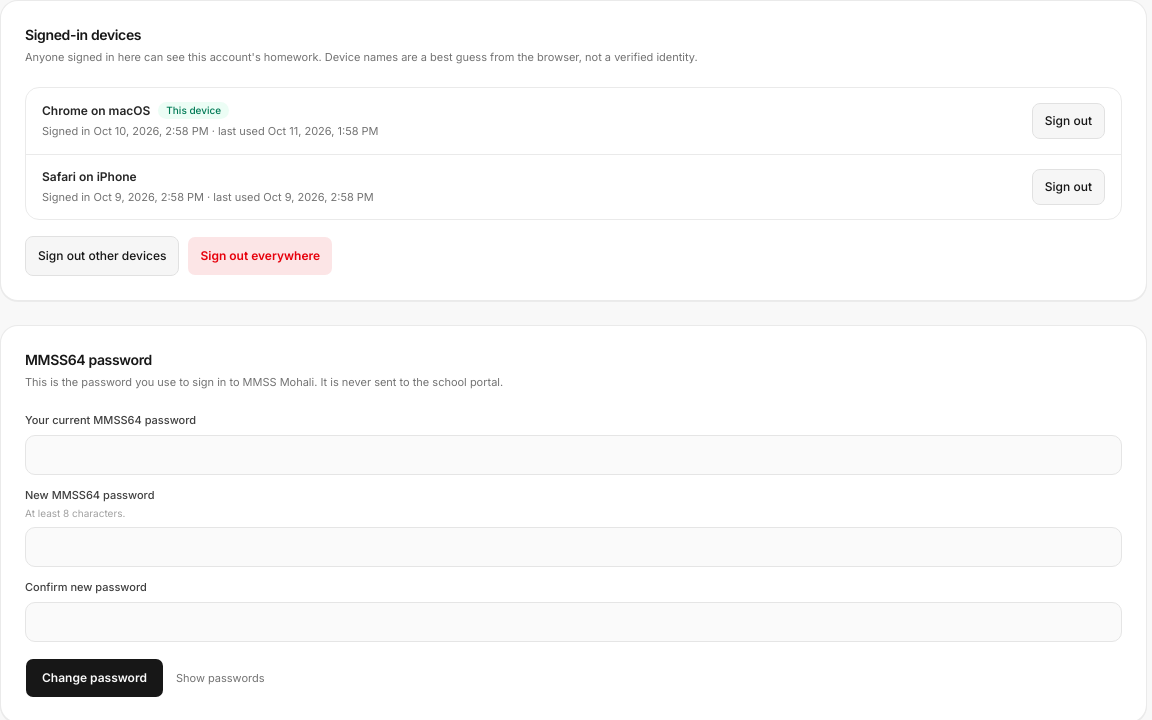
Test case: AccountSecurityPanel › cancelling a confirmation sends nothing at all
Click the button "Sign out" in the row of "Safari on iPhone" at (1068, 187), box [1032,169,1105,205]
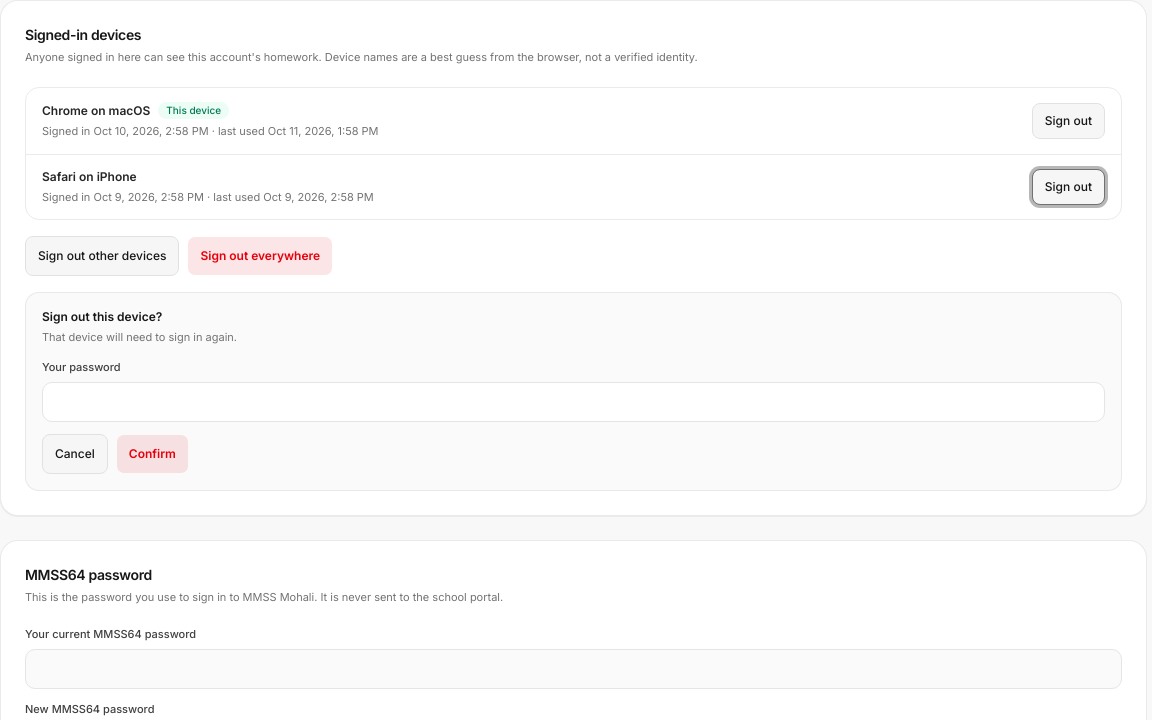
Type "my-password" into the password field labelled "Your password" at (574, 402), box [42,382,1105,422]
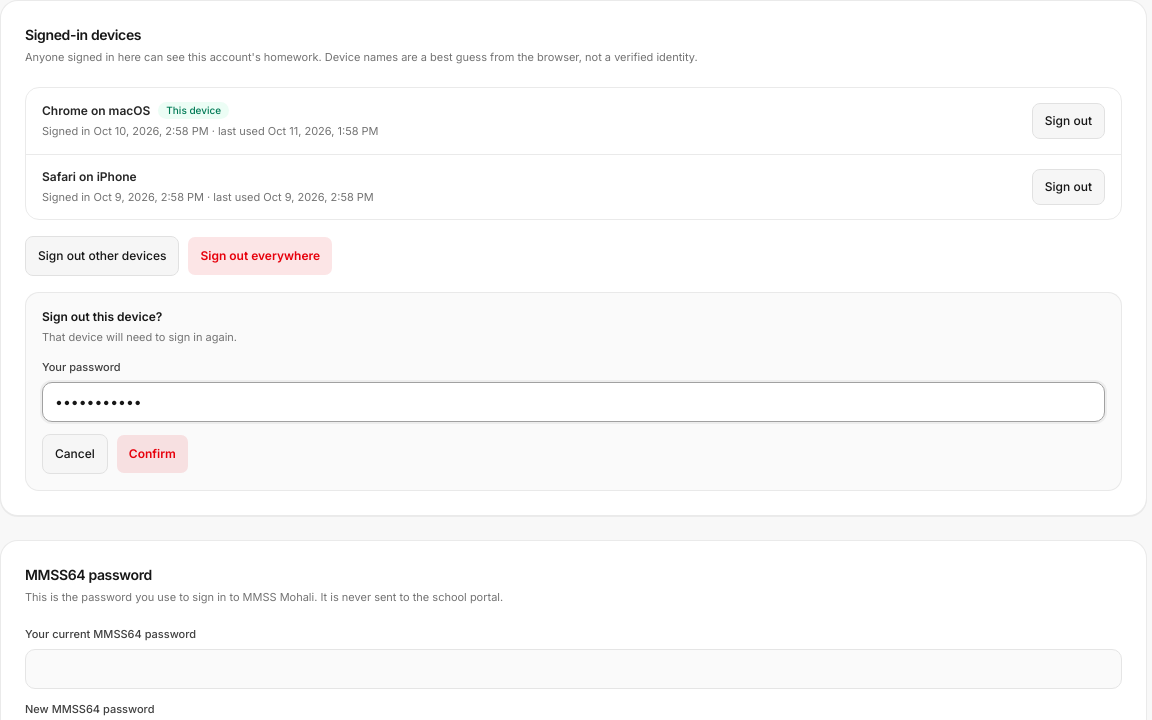
Click the button "Cancel" at (75, 454), box [42,434,108,474]
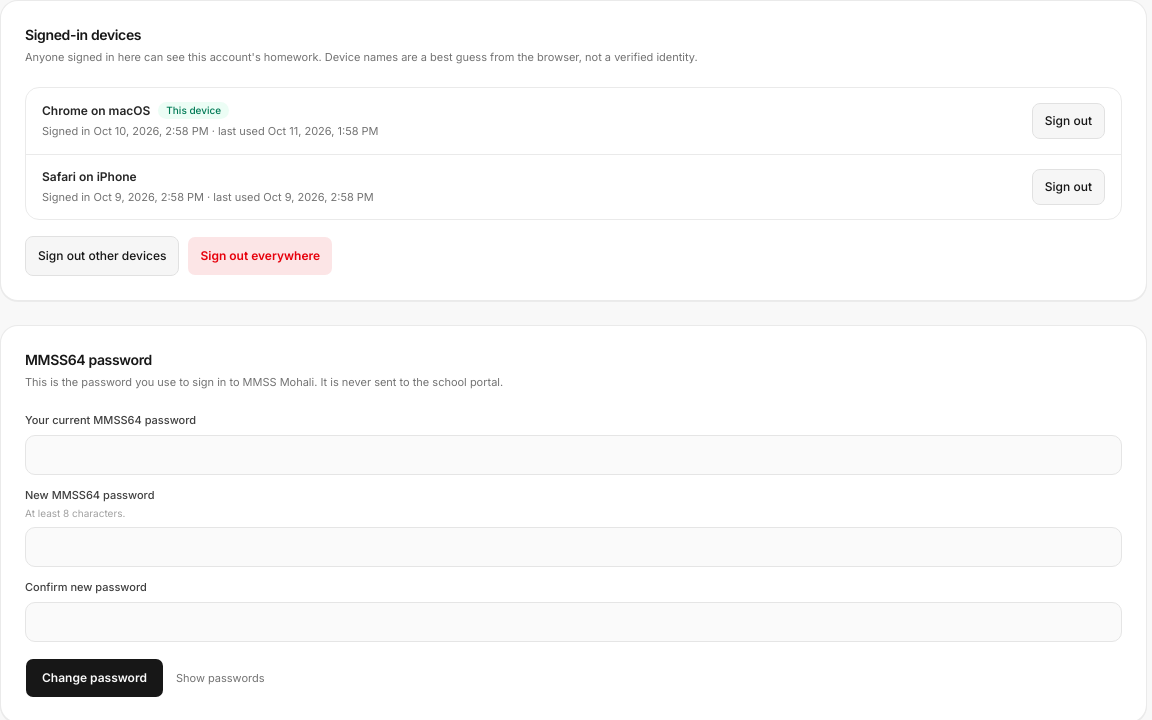
Expected: the label labelled "Your password" is gone
